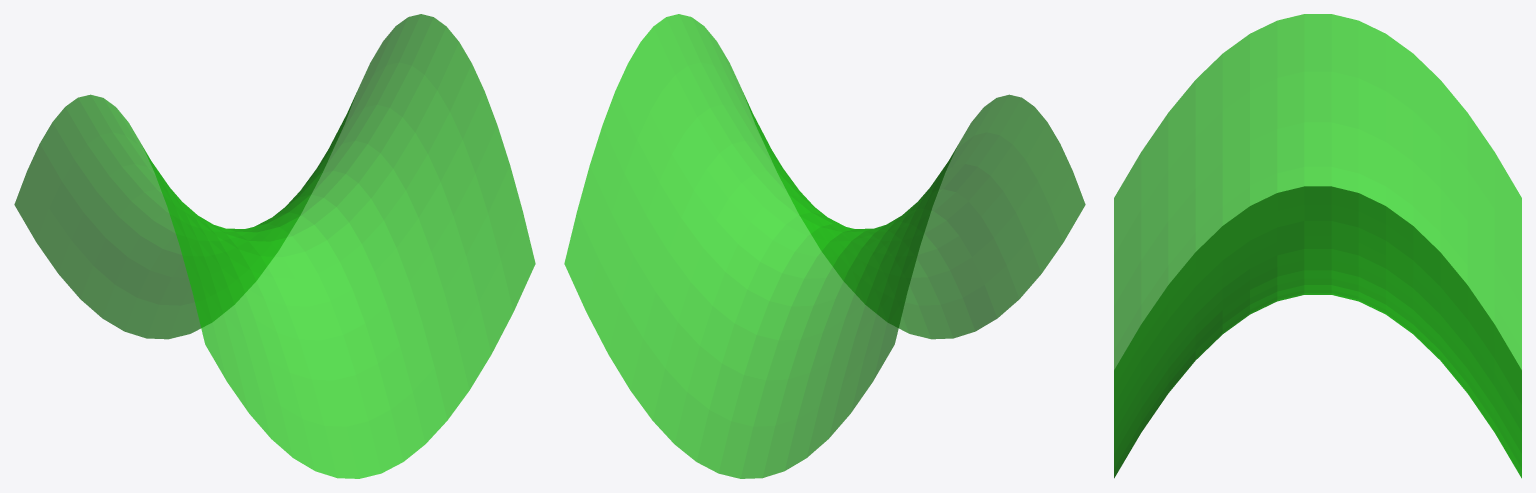
File: silla con dos normales.fbx
3 renders of one model, left to right at view 1: azimuth 30°, elevation 25°; view 2: azimuth 150°, elevation 25°; view 3: azimuth 270°, elevation 25°, orthographic. The views are drawn at different scales.
Visible parts, largest first — view 1: Z Function; view 2: Z Function; view 3: Z Function.
Boxes of the visible parts, x1,y1,x2,y2 form: Z Function: (14, 14, 535, 478); Z Function: (564, 14, 1085, 478); Z Function: (1114, 14, 1521, 478).
Bounding box in the file's own units: 200 × 199 × 200.
